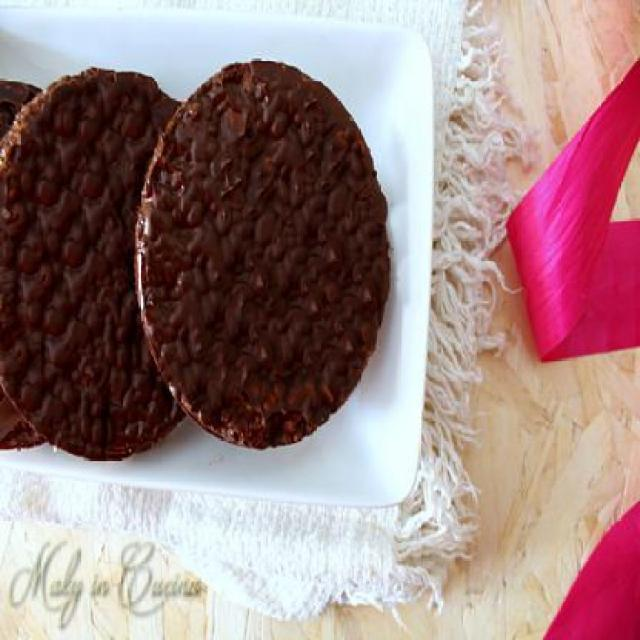Gallette di riso packaged: (140, 63, 398, 460), (6, 68, 202, 464)
